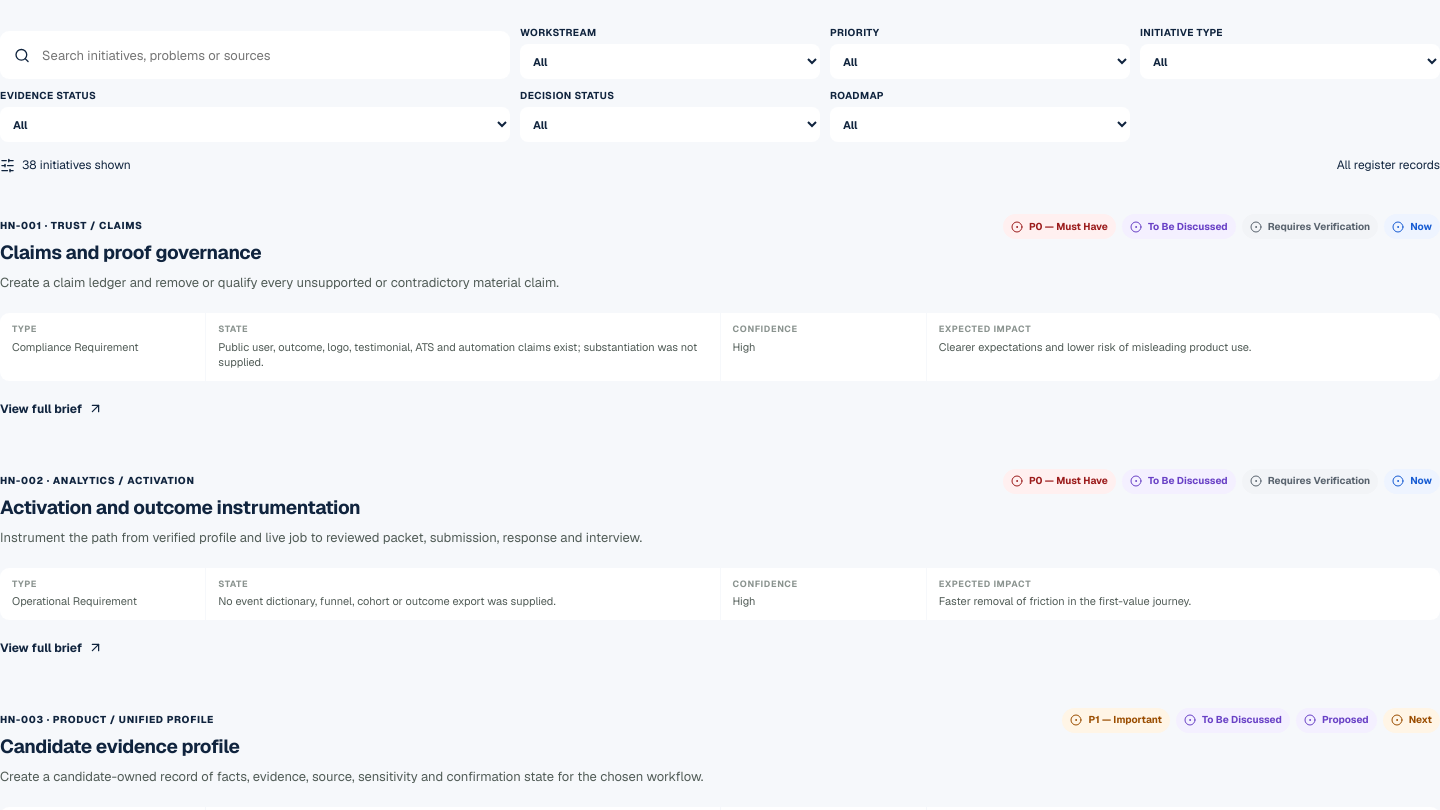
initiative explorer › clears filters
Type "no-result-query" into the search field labelled "Search initiatives" at (268,55), box [40,46,496,64]
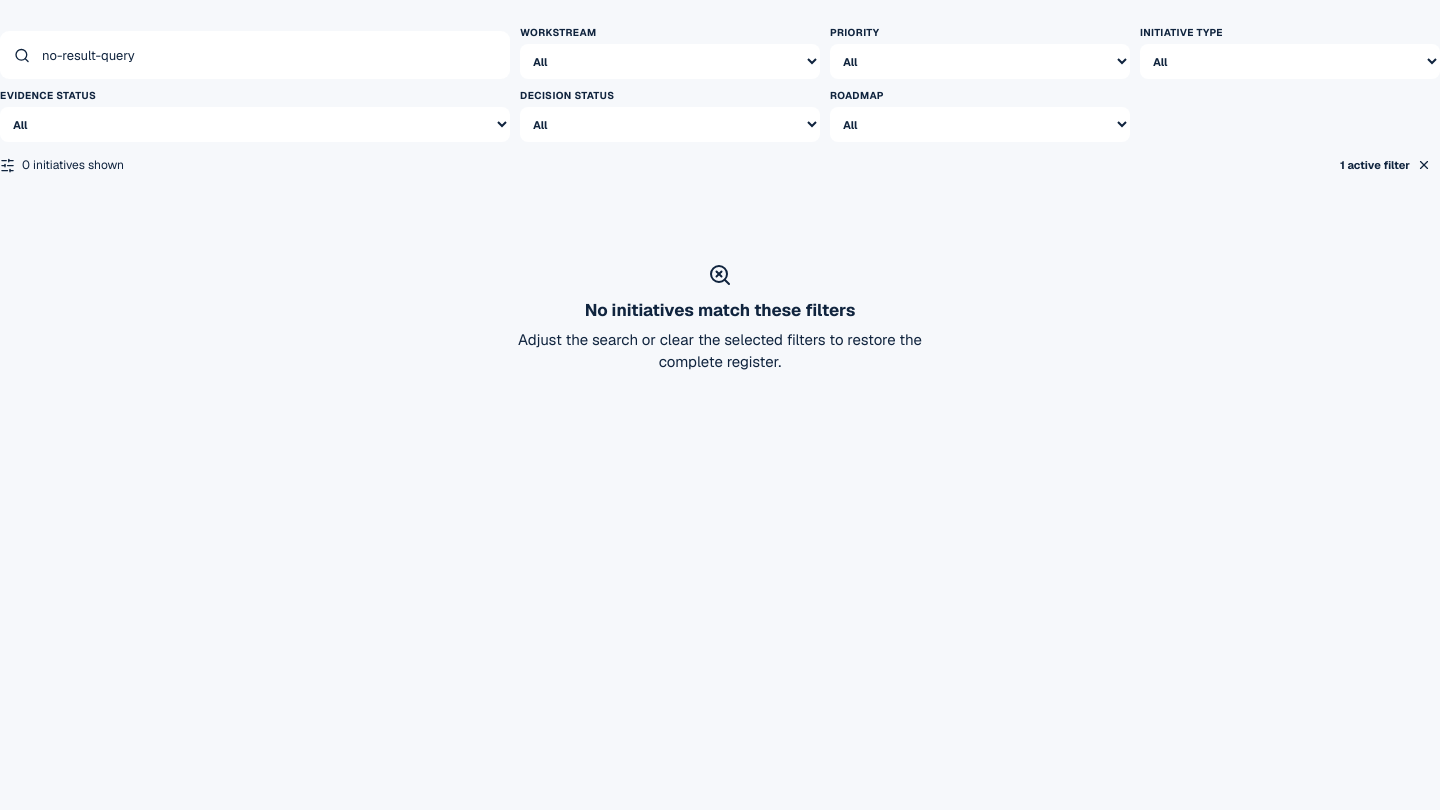
Expected: the text "No initiatives match these filters" is shown, [585,298,855,320]
Click the button with aria-label "Clear all filters" at (1385,165), box [1331,152,1439,178]
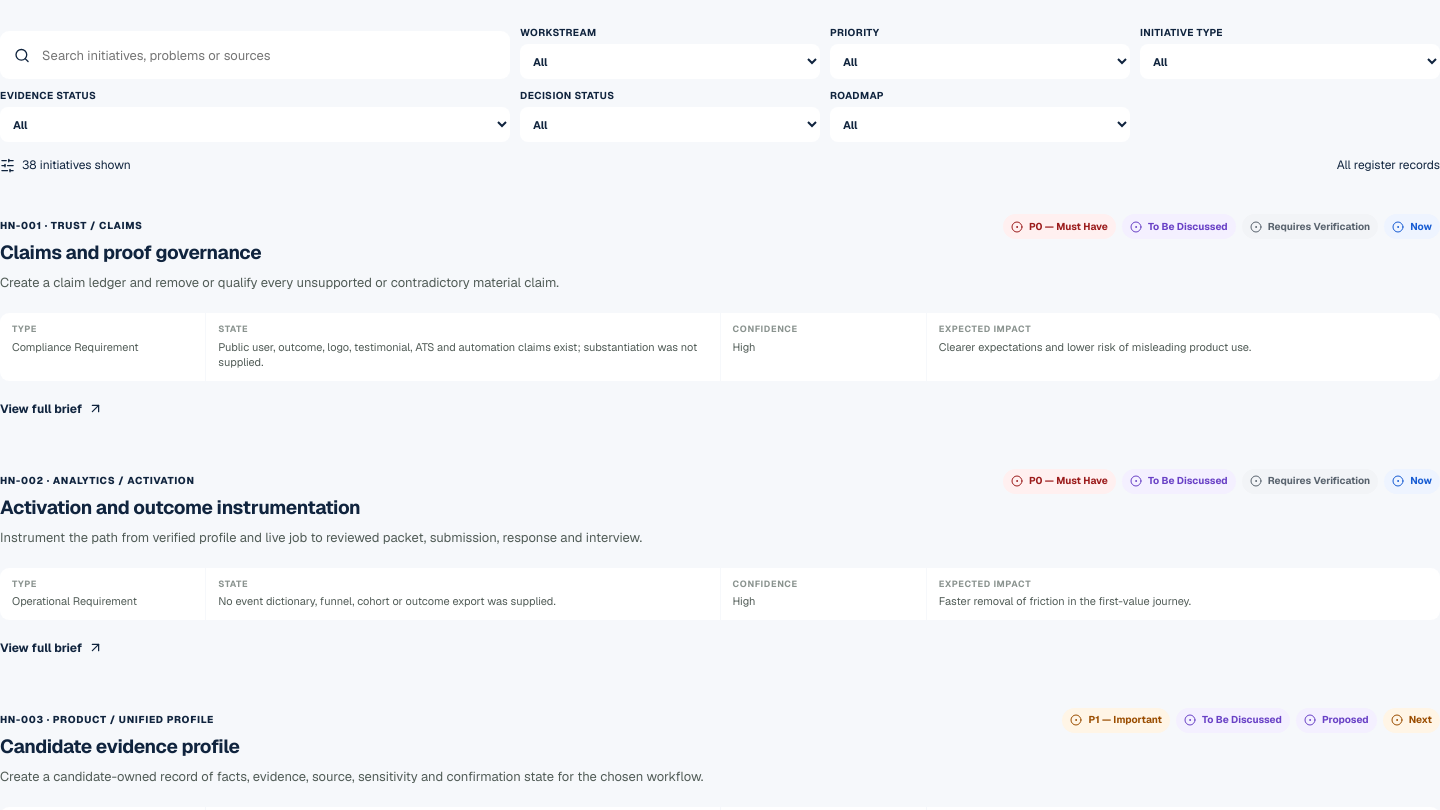
Expected: the text "38 initiatives shown" is shown, [0,157,131,173]
